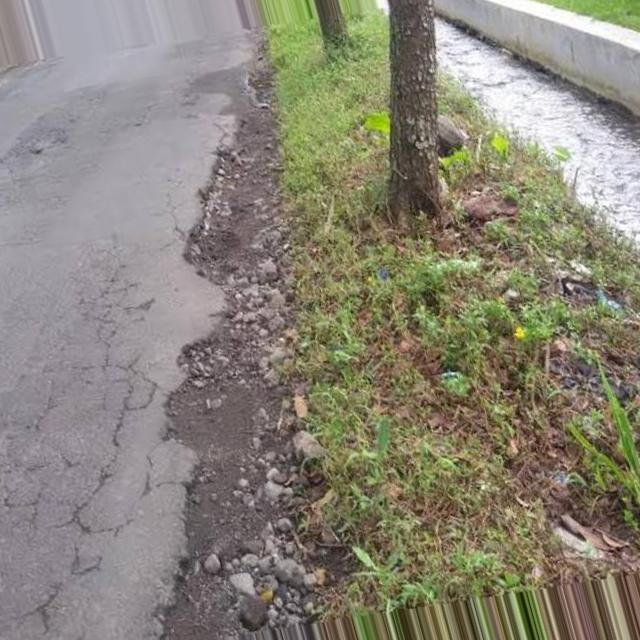Pinggir: (139, 79, 329, 640)
